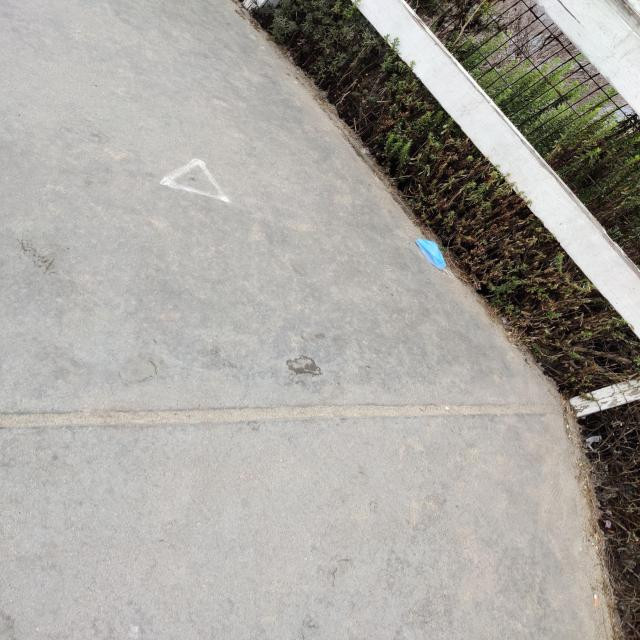litter: (415, 238, 450, 271)
